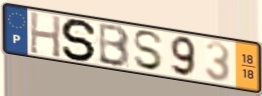3: (204, 39, 232, 84)
9: (168, 35, 198, 78)
B: (97, 22, 132, 69)
H: (28, 10, 62, 60)
S: (59, 18, 100, 63), (132, 29, 166, 73)
